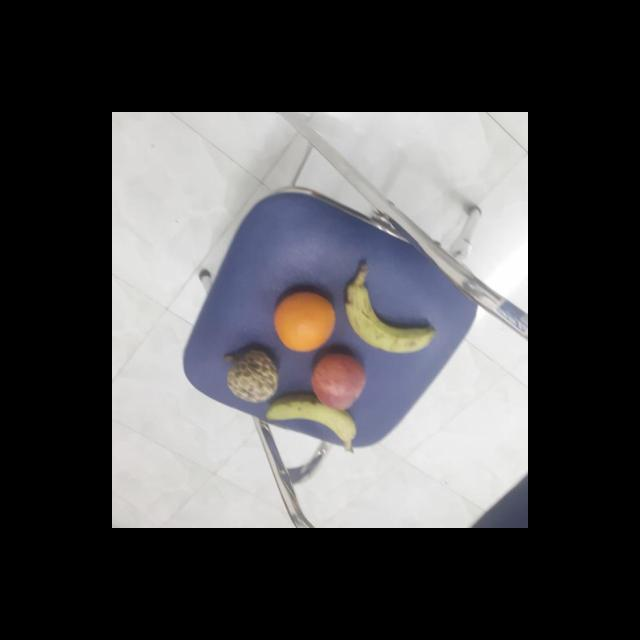Sakya fruit: (226, 347, 280, 403)
apple: (310, 353, 368, 414)
banana: (344, 280, 436, 354), (264, 397, 360, 447)
orange: (272, 290, 337, 351)
